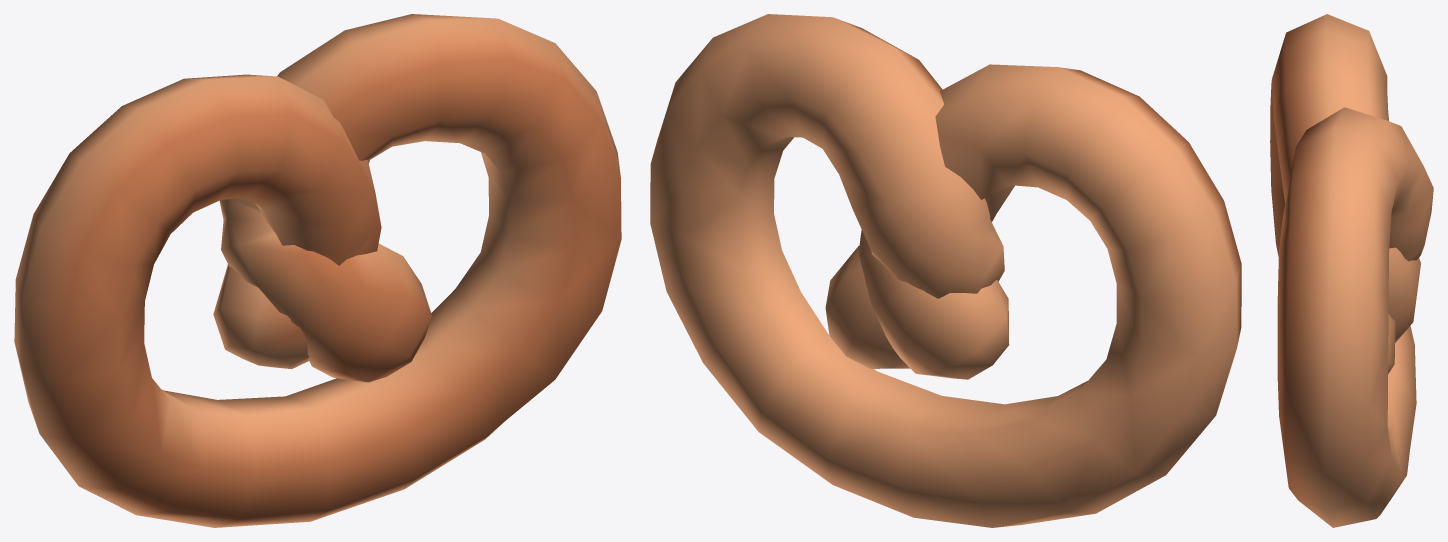
The model's file is pretzel.glb.
3 renders of one model, left to right at view 1: azimuth 30°, elevation 25°; view 2: azimuth 150°, elevation 25°; view 3: azimuth 270°, elevation 25°, orthographic. The views are drawn at different scales.
Parts seen in each view (by area): view 1: pretzel; view 2: pretzel; view 3: pretzel.
Boxes of the visible parts, <box> form: pretzel: <box>14,14,621,527</box>; pretzel: <box>650,14,1241,527</box>; pretzel: <box>1270,14,1433,527</box>.
Bounding box in the file's own units: 0.5509 × 0.4205 × 0.1498.
1 material, 1 textured.
